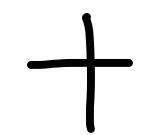plus: (27, 13, 133, 132)
